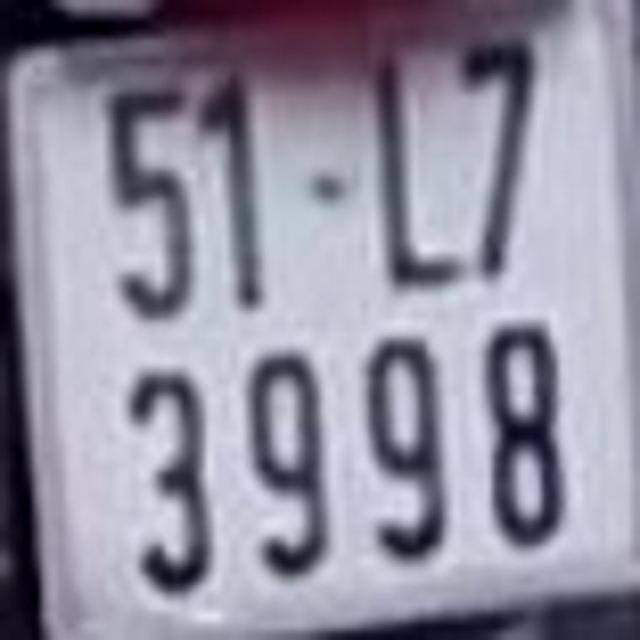1: (195, 78, 279, 316)
3: (124, 358, 215, 600)
5: (104, 81, 196, 320)
7: (460, 41, 544, 280)
8: (481, 318, 571, 548)
9: (242, 340, 336, 580), (361, 332, 449, 566)
L: (361, 62, 464, 290)
